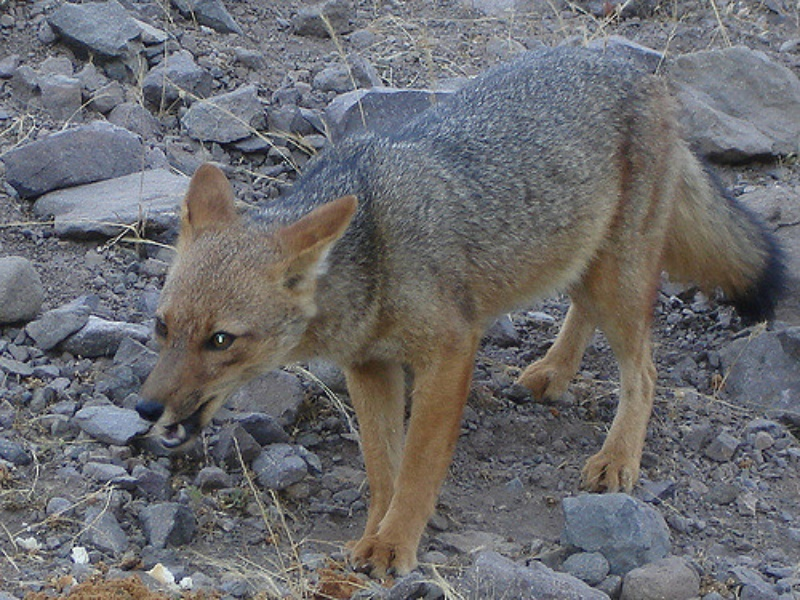fox: (132, 36, 783, 581)
